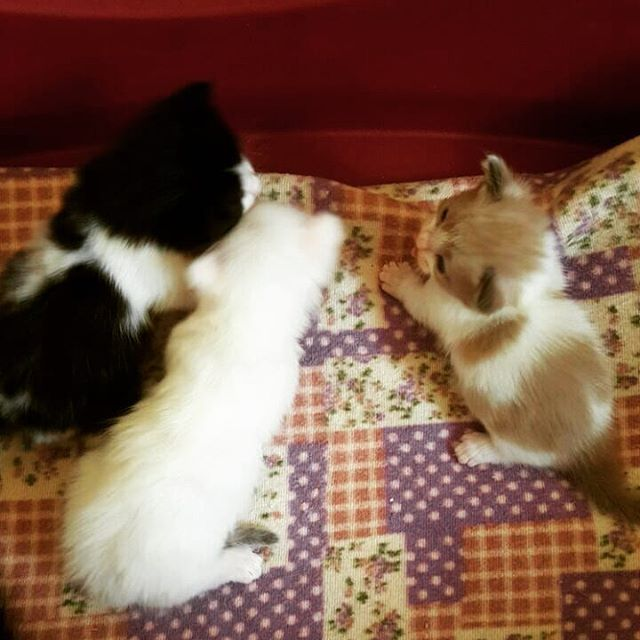cat: (104, 83, 263, 258)
